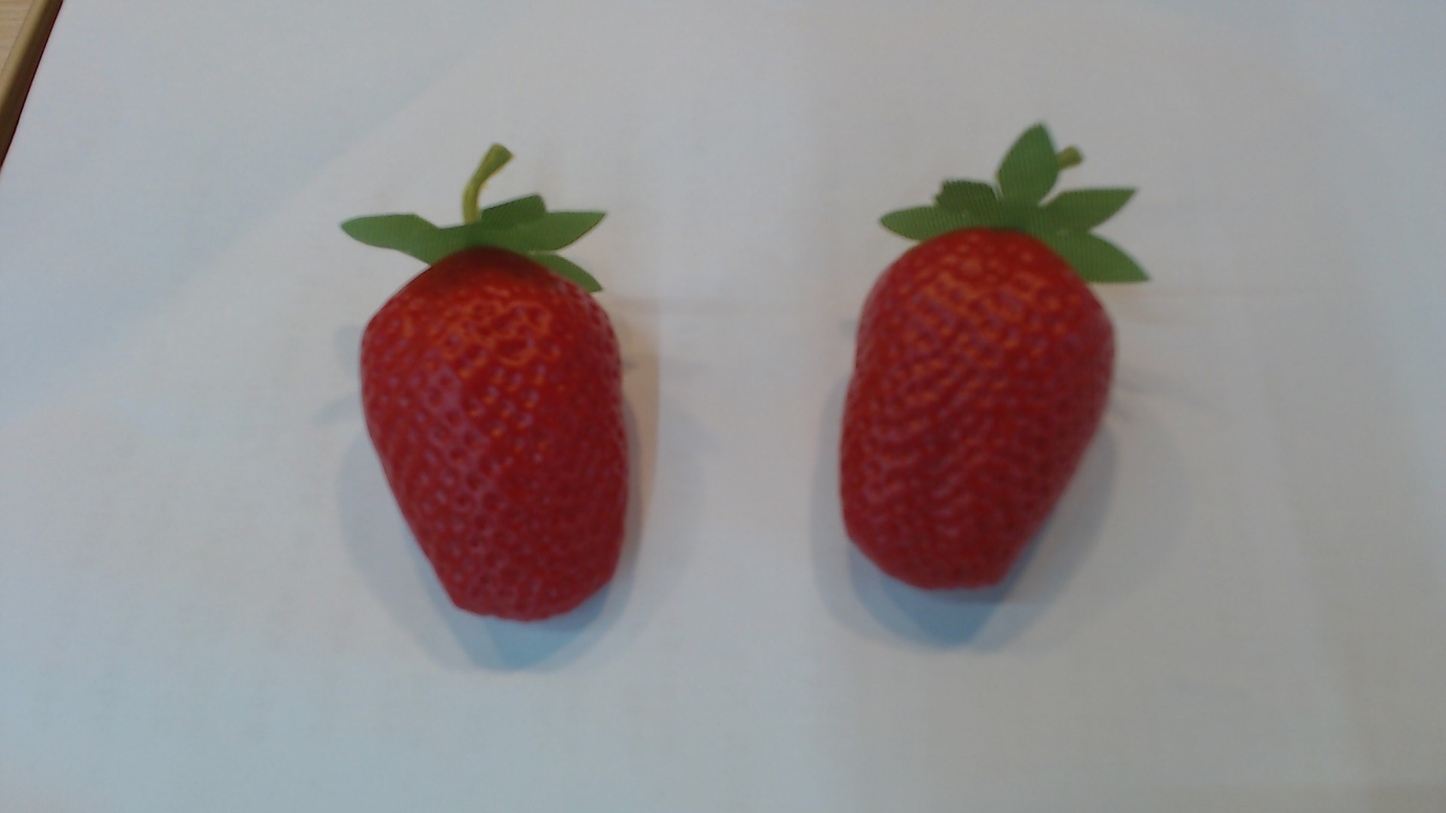strawberry: (343, 231, 635, 626), (828, 222, 1119, 601)
